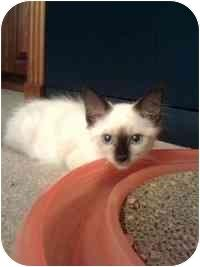siamese: (80, 81, 169, 176)
